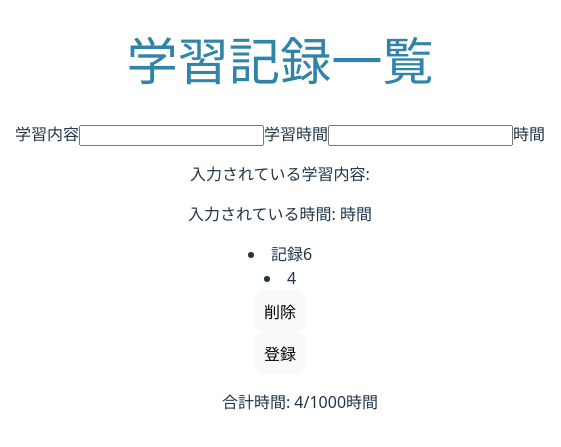
Test case: Test › 入力されていない項目があります
The image size is (561, 447).
Type "記録6" into the field with test id "topic-input" at (172, 136), box [79,126,264,146]
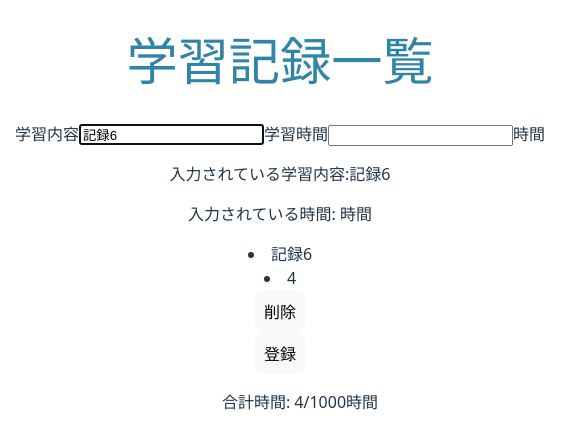
Clear the number field with test id "time-input" at (420, 136), box [328,126,513,146]
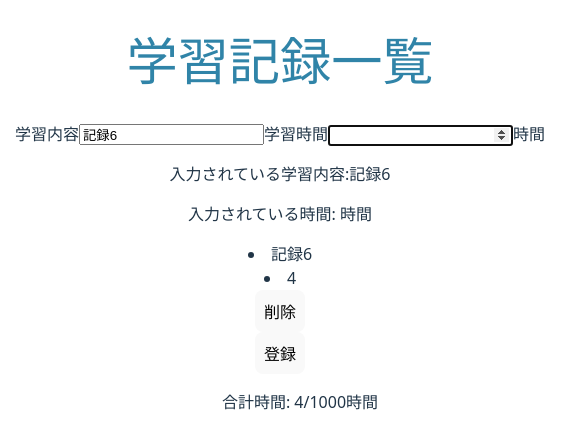
Click the button "登録" at (280, 354), box [255,332,305,374]
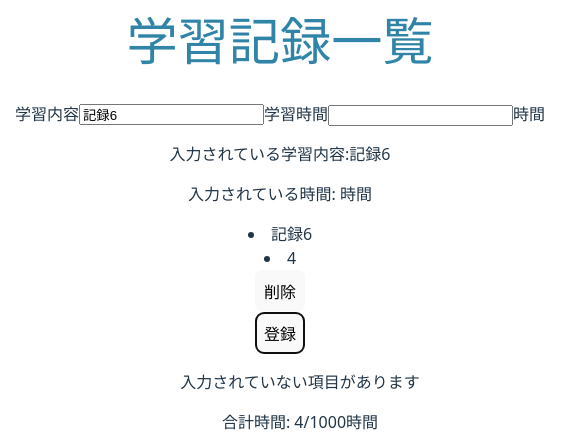
Expected: the text with test id "error" reads "入力されていない項目があります", [180,372,420,394]
